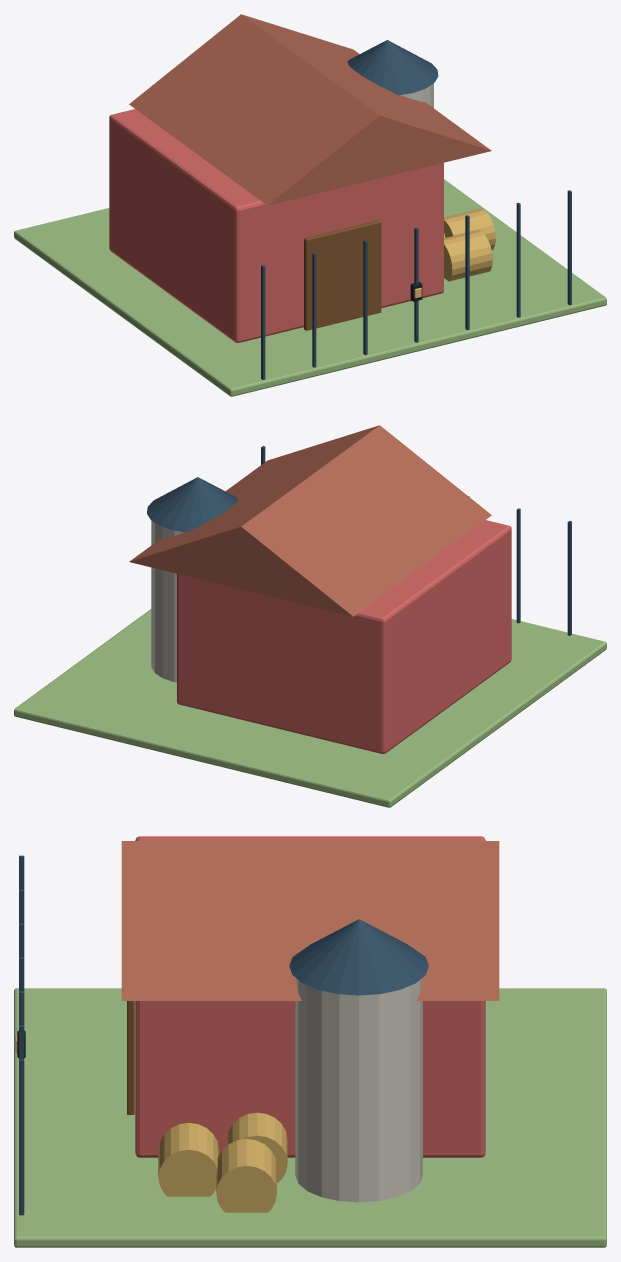
Rendered from AGR_BARN_2x2_001.glb.
3 views of the same model, one above another, from view 1: azimuth 30°, elevation 25°; view 2: azimuth 150°, elevation 25°; view 3: azimuth 270°, elevation 25° (orthographic). The views are drawn at different scales.
Parts seen in each view (by area): view 1: AGR_BARN_2x2_001_Visual; view 2: AGR_BARN_2x2_001_Visual; view 3: AGR_BARN_2x2_001_Visual.
Part boxes in pixels (x1,y1,x2,y2): AGR_BARN_2x2_001_Visual: [14, 14, 606, 396]; AGR_BARN_2x2_001_Visual: [14, 425, 606, 807]; AGR_BARN_2x2_001_Visual: [14, 836, 606, 1247].
Size of what is drawn, in the model's own units: 3.9 by 2.05 by 3.9.
